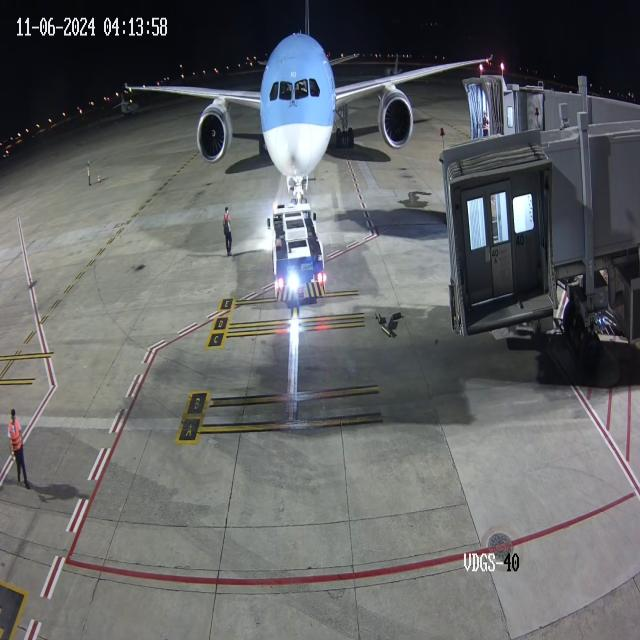bridge: (490, 73, 546, 145)
plane: (108, 3, 434, 198)
window: (264, 70, 325, 110)
